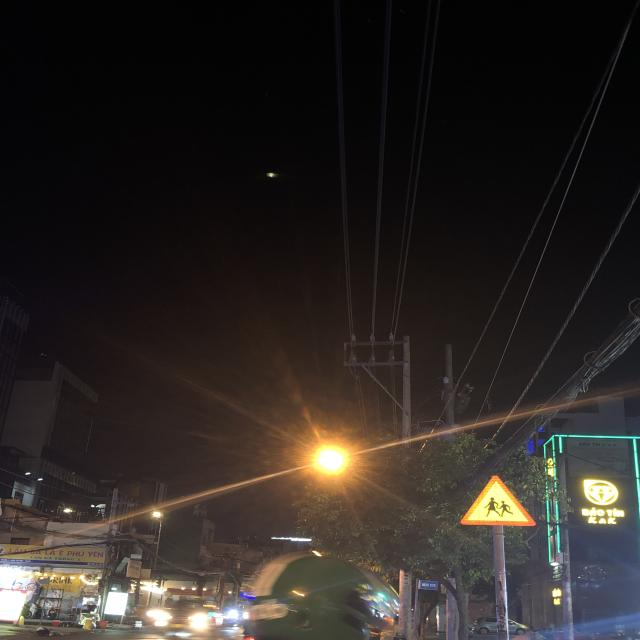bien_nguy_hiem: (459, 473, 532, 526)
